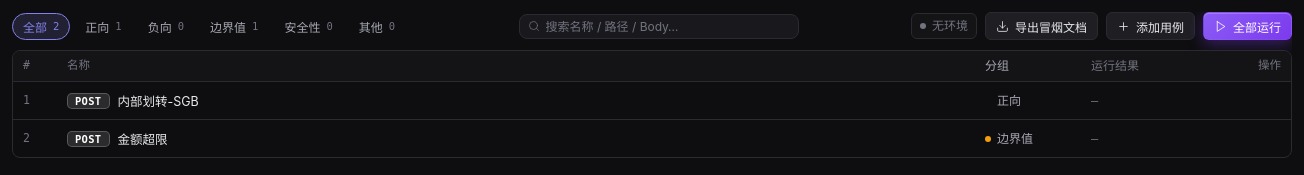
TestCasesPanel › 关键字搜索命中请求 Body 文本
This screenshot has width=1304, height=175.
Expected: the number of elements with class "tcp-body-row" is 2, x1=13 y1=81 x2=1291 y2=119; x1=13 y1=119 x2=1291 y2=157
Type "cny" into the field with class "tcp-search-input" at [668, 26], box x1=546 y1=18 x2=790 y2=34
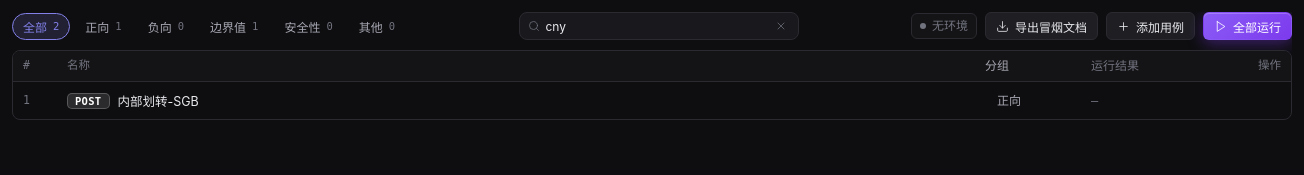
Expected: the text "内部划转-SGB" is shown, x1=118 y1=91 x2=199 y2=110
Now the number of elements with class "tcp-body-row" is 1, box x1=13 y1=81 x2=1291 y2=119
Now the text "金额超限" is gone
